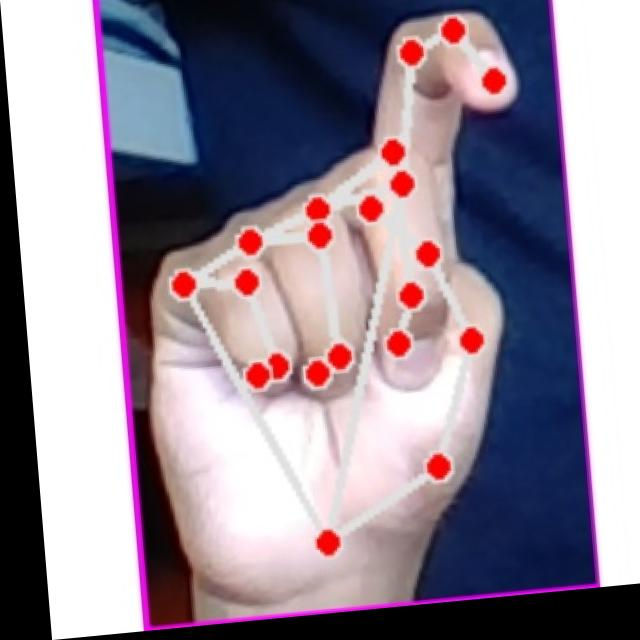Z: (111, 12, 560, 592)
